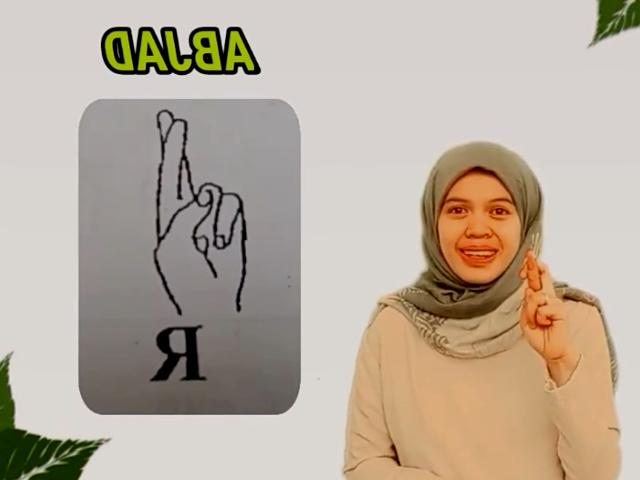R: (514, 244, 572, 364)
